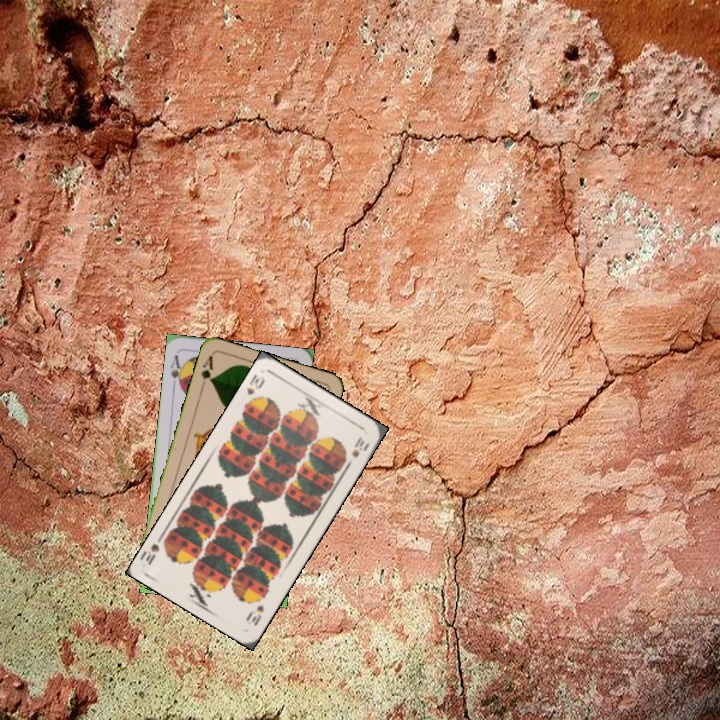GA: (197, 351, 216, 391)
S10: (242, 370, 268, 407), (243, 601, 267, 628)
SA: (166, 351, 187, 391)
